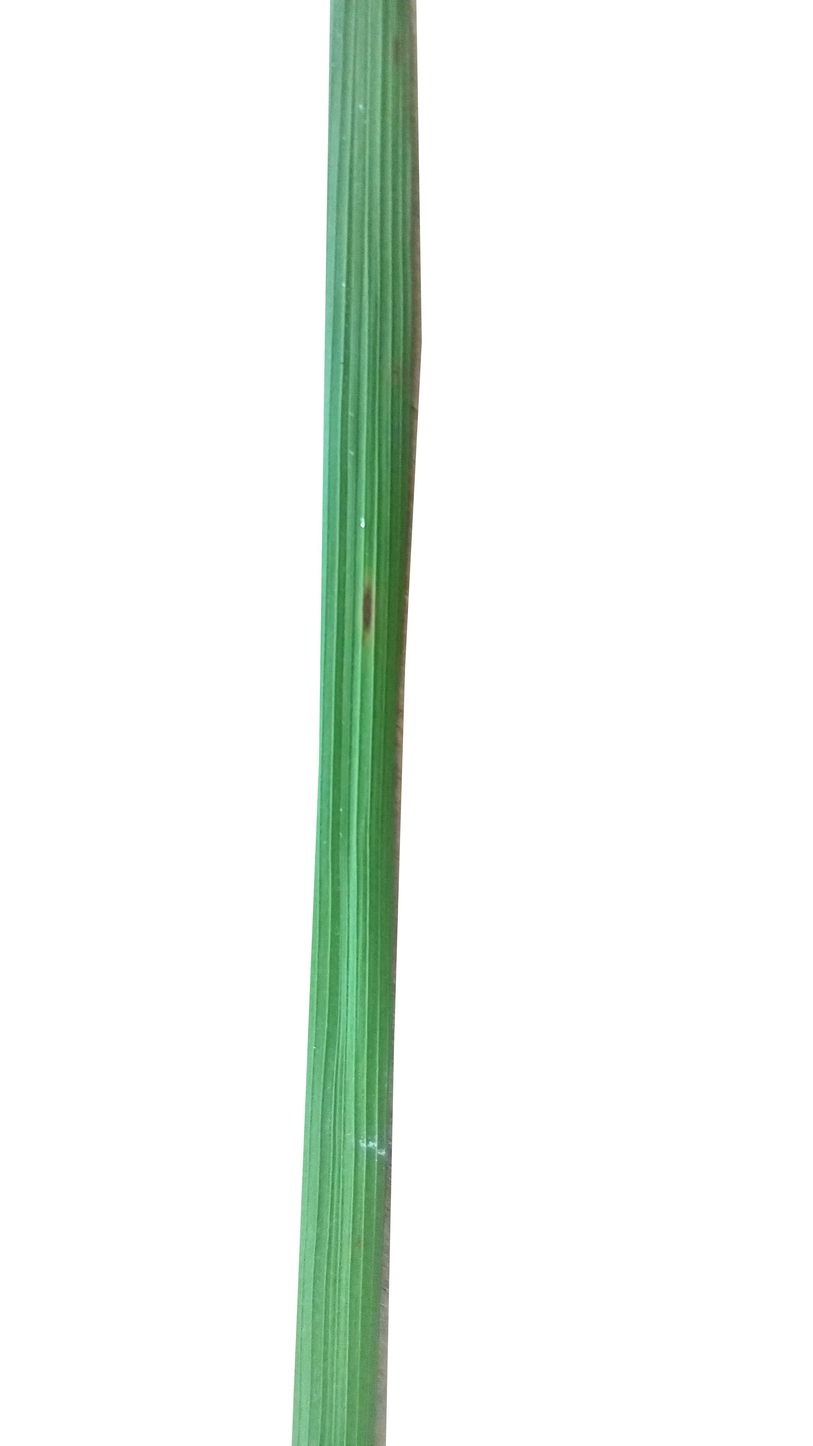Brown spot: (352, 560, 379, 648)
